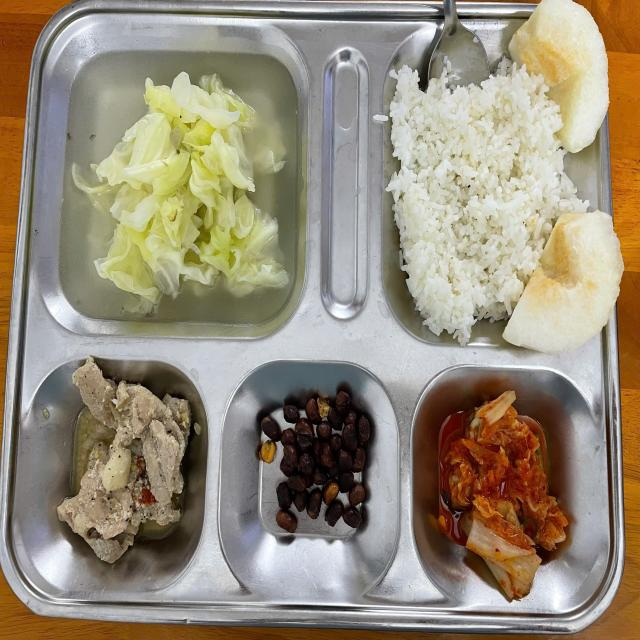com_trang: (392, 75, 526, 308)
thit_kho: (76, 384, 193, 550)
